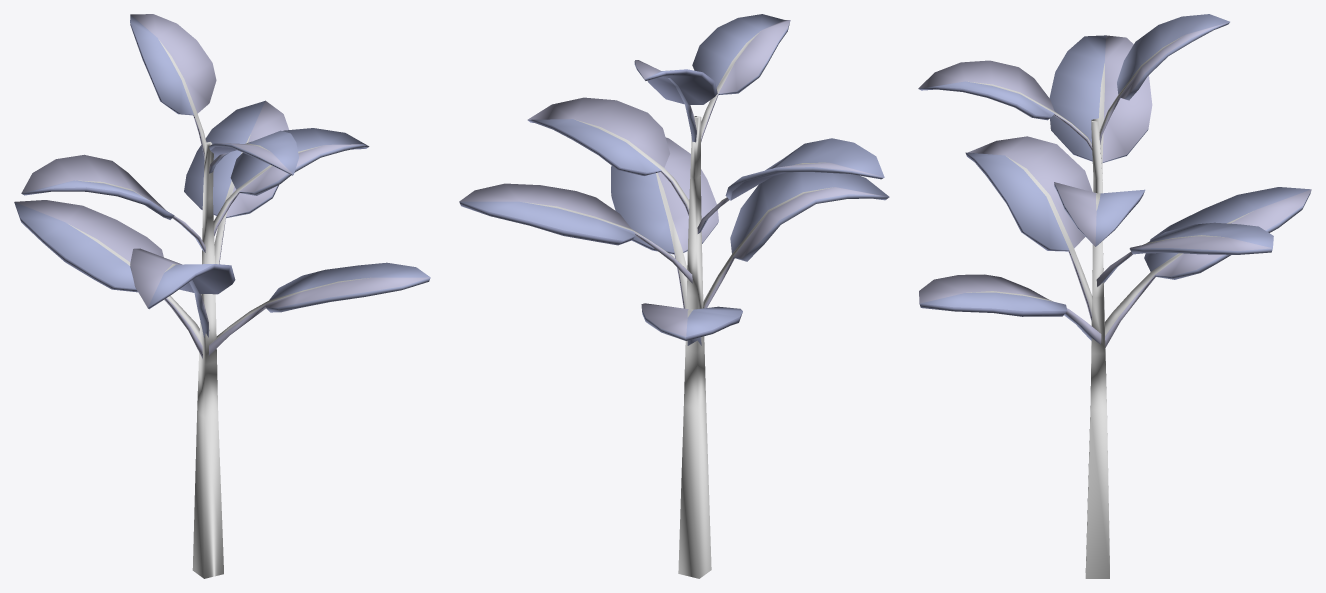
Rendered from Prop_Plant_01.fbx.
3 renders of one model, left to right at view 1: azimuth 30°, elevation 25°; view 2: azimuth 150°, elevation 25°; view 3: azimuth 270°, elevation 25°, orthographic. The views are drawn at different scales.
Parts seen in each view (by area): view 1: Model_Plant_01; view 2: Model_Plant_01; view 3: Model_Plant_01.
Boxes of the visible parts, x1,y1,x2,y2 form: Model_Plant_01: [14, 14, 430, 578]; Model_Plant_01: [459, 14, 889, 578]; Model_Plant_01: [918, 14, 1311, 578].
Bounding box in the file's own units: 266 × 383 × 250.
